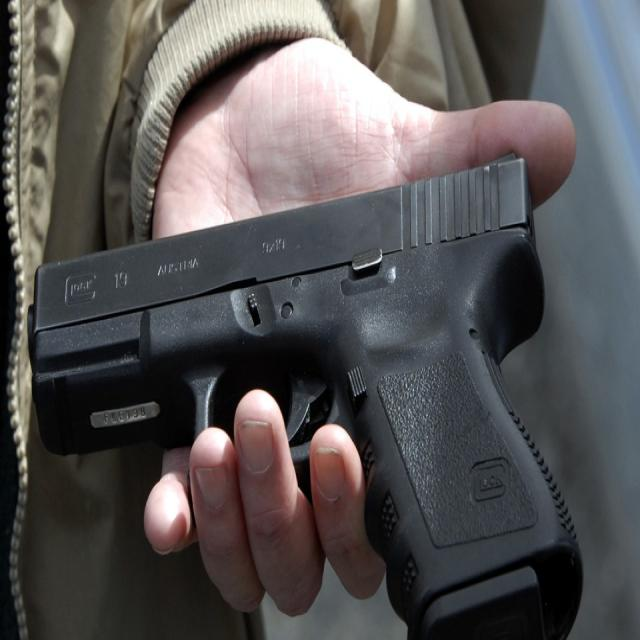HandGun: (27, 156, 585, 640)
